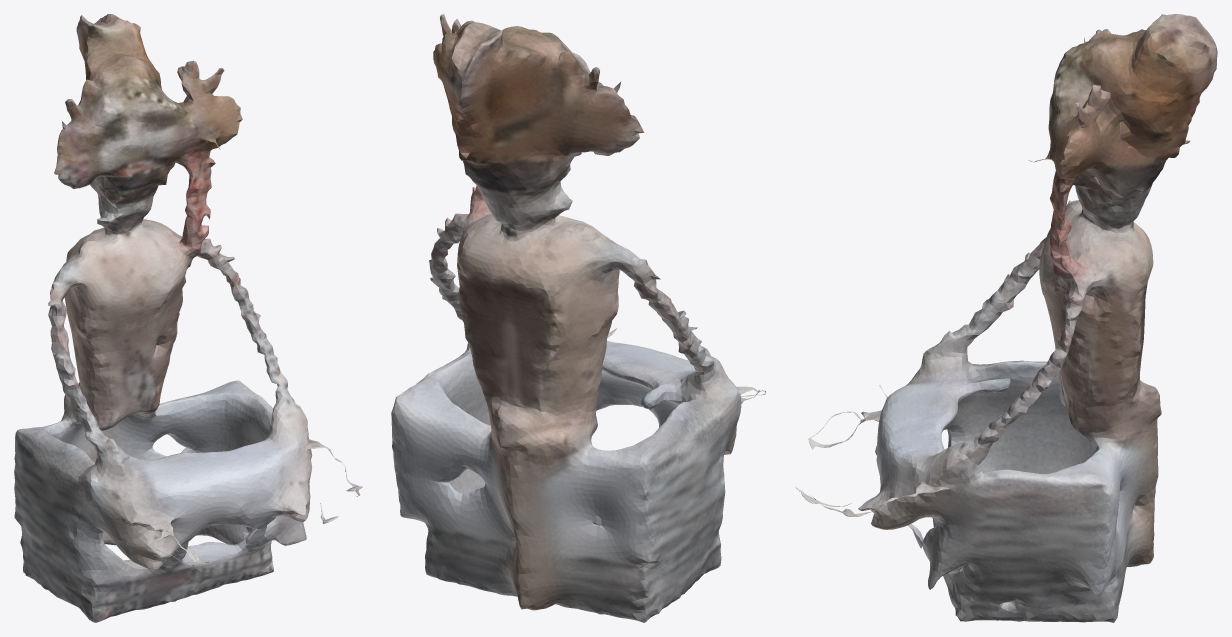
File: full_puppet.glb
The picture shows the model from 3 angles, left to right: view 1: azimuth 30°, elevation 25°; view 2: azimuth 150°, elevation 25°; view 3: azimuth 270°, elevation 25°; orthographic projection. The views are drawn at different scales.
Size of the model in its own units: 0.5059 by 1.04 by 0.7051.
1 material, 1 textured.
